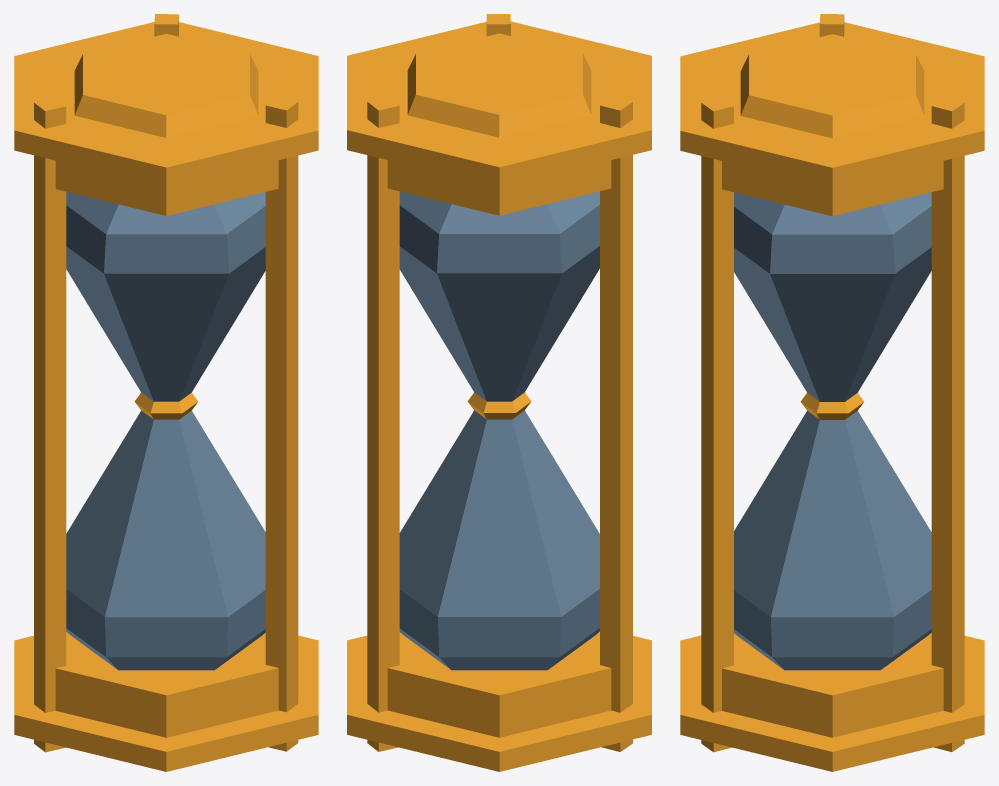
File: SM_Hourglass_C.fbx
3 renders of one model, left to right at view 1: azimuth 30°, elevation 25°; view 2: azimuth 150°, elevation 25°; view 3: azimuth 270°, elevation 25°, orthographic.
Visible parts, largest first — view 1: hourglass-c; view 2: hourglass-c; view 3: hourglass-c.
Boxes of the visible parts, x1,y1,x2,y2 form: hourglass-c: [14, 14, 318, 771]; hourglass-c: [347, 14, 651, 771]; hourglass-c: [680, 14, 984, 771].
Size of the model in its own units: 0.127 by 0.256 by 0.11.
